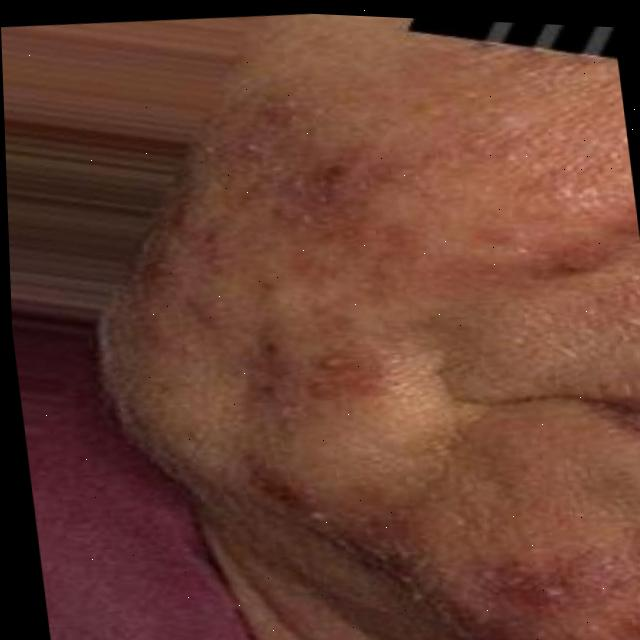Rosacea: (199, 139, 423, 422), (494, 520, 640, 640)
